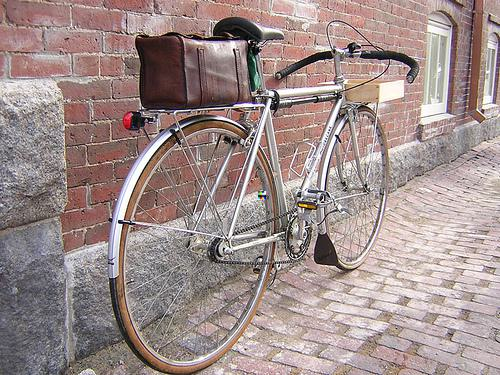car: (105, 16, 420, 375)
